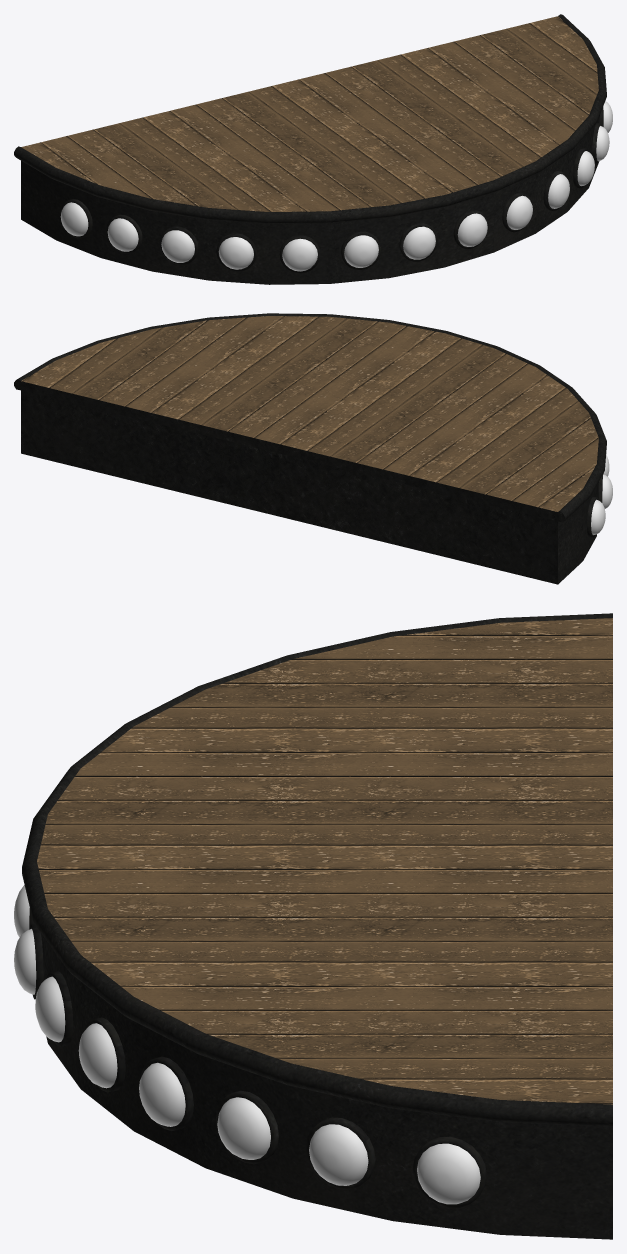
File: Stage Half Wood.fbx
3 views of the same model, one above another, from view 1: azimuth 30°, elevation 25°; view 2: azimuth 150°, elevation 25°; view 3: azimuth 270°, elevation 25° (orthographic). The views are drawn at different scales.
Visible parts, largest first — view 1: Circle.001; view 2: Circle.001; view 3: Circle.001.
Boxes of the visible parts, x1,y1,x2,y2 form: Circle.001: (14, 14, 612, 284); Circle.001: (14, 313, 612, 584); Circle.001: (14, 613, 612, 1239).
Size of the model in its own units: 283 by 36.21 by 143.
